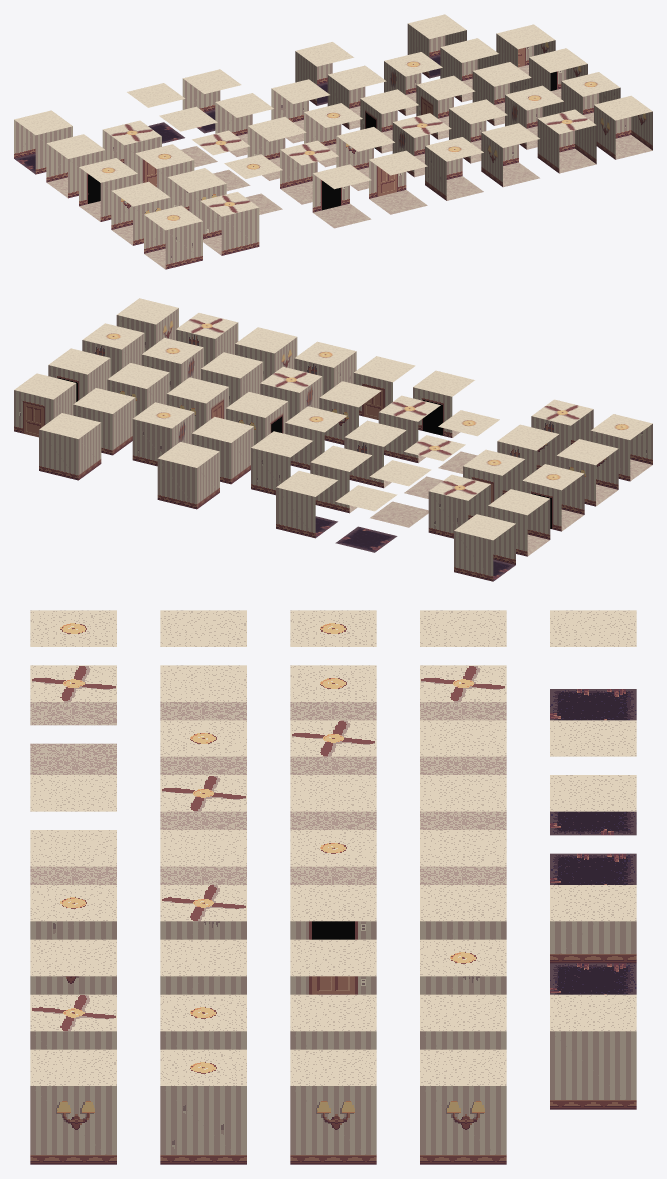
The model's file is dungeon_tiles.glb.
3 views of the same model, one above another, from view 1: azimuth 30°, elevation 25°; view 2: azimuth 150°, elevation 25°; view 3: azimuth 270°, elevation 25° (orthographic). The views are drawn at different scales.
Parts seen in each view (by area): view 1: Cubby_Variant3-col, Hallway_Variant2-col, Hallway_Variant3-col, Cubby_Variant4-col, Wall_ZDoorOpen-col, Corner_Variant5-col, Corner_Variant4-col, Wall_ZDoorClosed-col, Hallway_Default-col, Hallway_Variant5-col, Hallway_DoorOpen-col, Hallway_Pit-col (+28 smaller); view 2: Cubby_Pit-col, Corner_Pit-col, Hallway_Pit-col, Hallway_Variant1-col, Corner_Variant1-col, Cubby_DoorClosed-col, Wall_Pit-col, Hallway_Default-col, Hallway_Variant2-col, Hallway_DoorOpen-col, Hallway_Variant5-col, Cubby_Default-col (+28 smaller); view 3: Cubby_DoorClosed-col, Cubby_DoorOpen-col, Cubby_Variant5-col, Cubby_Variant4-col, Cubby_Pit-col, Corner_Pit-col, Hallway_Variant3-col, Wall_Pit-col, Hallway_Pit-col, Floor_Pit-col, Hallway_Variant2-col, Wall_Default-col (+28 smaller).
Boxes of the visible parts, x1,y1,x2,y2 form: Cubby_Variant3-col: [537, 109, 596, 173]; Hallway_Variant2-col: [144, 205, 202, 269]; Hallway_Variant3-col: [200, 192, 259, 255]; Cubby_Variant4-col: [594, 95, 652, 159]; Wall_ZDoorOpen-col: [312, 164, 371, 228]; Corner_Variant5-col: [481, 123, 539, 187]; Corner_Variant4-col: [425, 137, 483, 200]; Wall_ZDoorClosed-col: [369, 150, 427, 214]; Hallway_Default-col: [46, 134, 105, 198]; Hallway_Variant5-col: [111, 181, 170, 245]; Hallway_DoorOpen-col: [79, 158, 137, 221]; Hallway_Pit-col: [14, 110, 72, 174]; Cubby_Pit-col: [39, 413, 101, 480]; Corner_Pit-col: [157, 442, 219, 509]; Hallway_Pit-col: [454, 514, 515, 581]; Hallway_Variant1-col: [428, 474, 490, 538]; Corner_Variant1-col: [132, 402, 194, 466]; Cubby_DoorClosed-col: [14, 373, 76, 437]; Wall_Pit-col: [276, 471, 337, 538]; Hallway_Default-col: [488, 489, 550, 556]; Hallway_Variant2-col: [590, 414, 652, 481]; Hallway_DoorOpen-col: [522, 464, 584, 531]; Hallway_Variant5-col: [556, 439, 618, 506]; Cubby_Default-col: [73, 388, 135, 455]; Cubby_DoorClosed-col: [420, 1049, 506, 1164]; Cubby_DoorOpen-col: [290, 1049, 376, 1164]; Cubby_Variant5-col: [160, 1049, 246, 1164]; Cubby_Variant4-col: [30, 1049, 116, 1164]; Cubby_Pit-col: [550, 994, 636, 1109]; Corner_Pit-col: [550, 885, 636, 994]; Hallway_Variant3-col: [30, 665, 116, 774]; Wall_Pit-col: [550, 775, 636, 884]; Hallway_Pit-col: [550, 610, 636, 720]; Floor_Pit-col: [550, 720, 636, 835]; Hallway_Variant2-col: [30, 610, 116, 725]; Wall_Default-col: [420, 775, 506, 884].
Size of the model in its own units: 26 by 2 by 14.
Materials: 38 (38 with a texture image).
